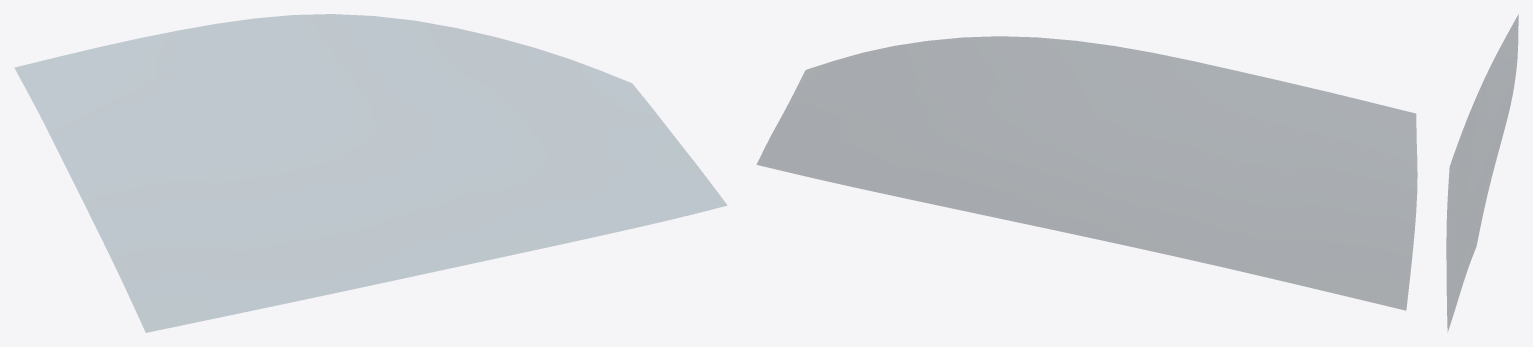
The picture shows the model from 3 angles, left to right: view 1: azimuth 30°, elevation 25°; view 2: azimuth 150°, elevation 25°; view 3: azimuth 270°, elevation 25°; orthographic projection. The views are drawn at different scales.
Visible parts, largest first — view 1: SM_DodgeCharger_Door_FR_Glass_Int1; view 2: SM_DodgeCharger_Door_FR_Glass_Int1; view 3: SM_DodgeCharger_Door_FR_Glass_Int1.
Boxes of the visible parts, x1,y1,x2,y2 form: SM_DodgeCharger_Door_FR_Glass_Int1: [15, 14, 726, 332]; SM_DodgeCharger_Door_FR_Glass_Int1: [756, 36, 1417, 310]; SM_DodgeCharger_Door_FR_Glass_Int1: [1446, 14, 1518, 330].
Bounding box in the file's own units: 0.934 × 0.3439 × 0.1596.
